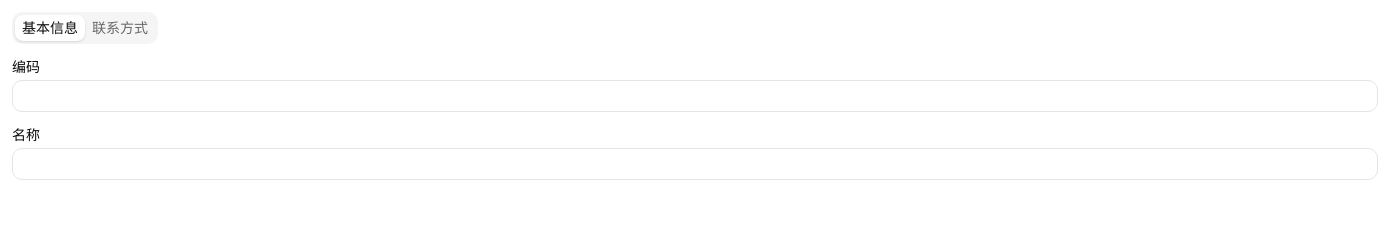
Test: SubformTabs › renders a textarea for fields with type 'textarea'
Click the tab "联系方式" at (120, 28), box [85, 15, 155, 41]
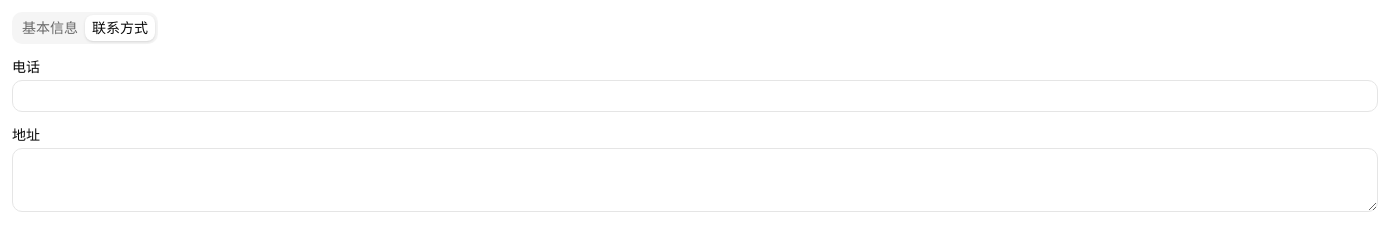
Expected: the text "地址" is shown, [12, 126, 40, 144]
Expected: the text box labelled "地址" is shown, [12, 148, 1378, 212]
